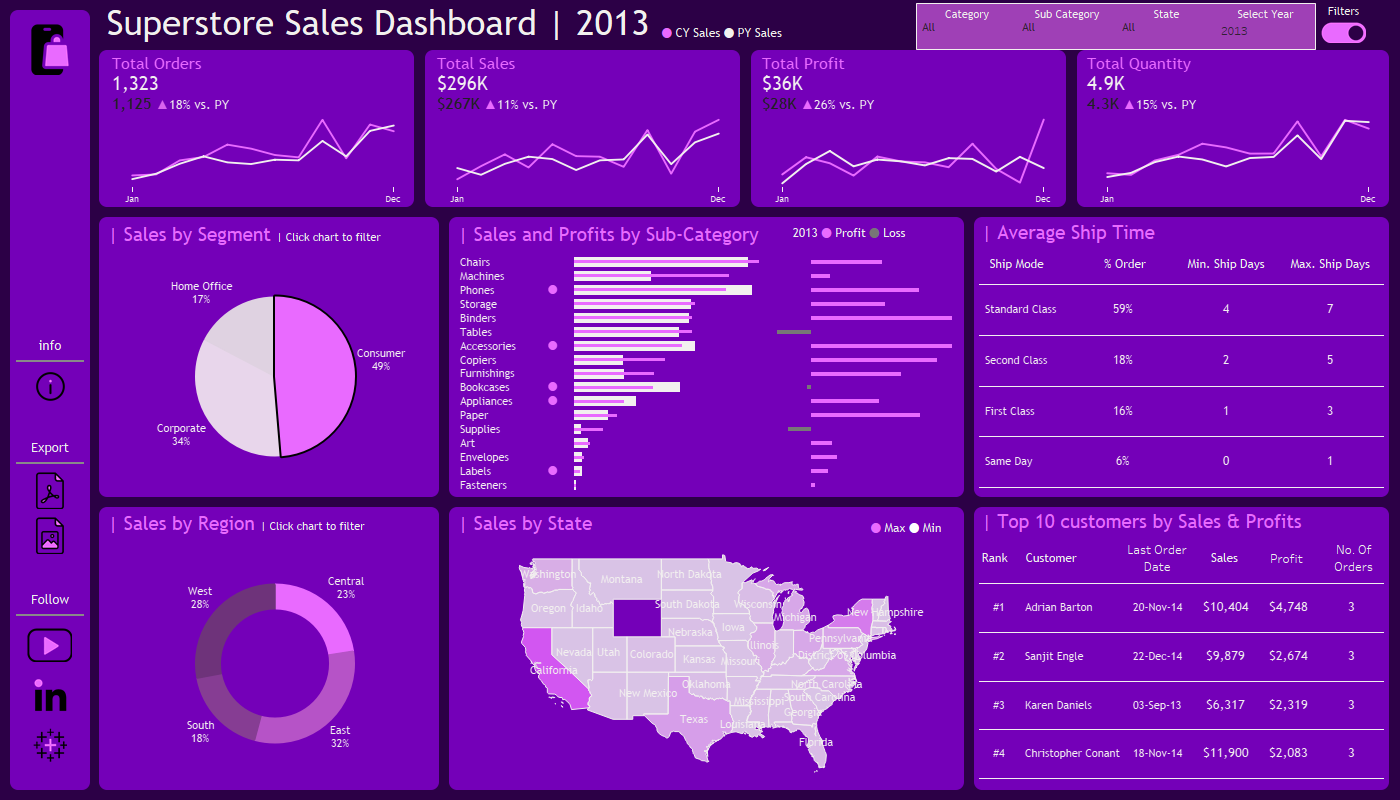

The page's visual inventory and layout, read from the dashboard file:
{"tool":"tableau","page":{"name":"Sales Dashboard","canvas":[1400,800],"ordinal":0},"visuals":[{"type":"image","param":"D:/SHIVAM/Learn With Shivam/Tableau Dashboard Tutorial- Beginner to Intermediate","box":[0,0,1400,800]},{"type":"blank","box":[90,0,1310,267]},{"type":"text","box":[100,0,1300,46]},{"type":"text","box":[1316,1,55,21]},{"type":"filter","title":"Total Orders KPI","param":"[federated.1rs4rue05h7jap19rui71063v4hk].[none:category:nk]","box":[917,4,100,45]},{"type":"filter","title":"Total Orders KPI","param":"[federated.1rs4rue05h7jap19rui71063v4hk].[none:sub_category:nk]","box":[1017,4,100,45]},{"type":"filter","title":"Total Orders KPI","param":"[federated.1rs4rue05h7jap19rui71063v4hk].[none:state:nk]","box":[1117,4,99,45]},{"type":"parameter","param":"[Parameters].[Parameter 1]","box":[1216,4,99,45]},{"type":"blank","box":[10,10,80,10]},{"type":"image","param":"D:/SHIVAM/Learn With Shivam/Tableau Dashboard Tutorial- Beginner to Intermediate","box":[10,20,80,59]},{"type":"dashboard-object","box":[1321,21,45,23]},{"type":"text","box":[659,22,126,24]},{"type":"worksheet","title":"Total Orders KPI","mark":"Automatic","box":[108,54,309,61]},{"type":"worksheet","title":"Total Sales KPI","mark":"Automatic","box":[433,54,309,61]},{"type":"worksheet","title":"Total Profit KPI","mark":"Automatic","box":[758,54,309,61]},{"type":"worksheet","title":"Total Quantity KPI","mark":"Automatic","box":[1083,54,309,61]},{"type":"blank","box":[10,79,80,257]},{"type":"worksheet","title":"MOM Orders","mark":"Line","rows":["Calculation_852869205284057090","CY Orders (copy)_852869205284253699"],"cols":["order_date"],"box":[108,115,309,90]},{"type":"worksheet","title":"MOM Sales","mark":"Line","rows":["Calculation_852869205287362570","CY Sales (copy)_852869205287477259"],"cols":["order_date"],"box":[433,115,309,90]},{"type":"worksheet","title":"MOM Profit","mark":"Line","rows":["Calculation_852869205286715398","CY Profit (copy)_852869205286846471"],"cols":["order_date"],"box":[758,115,309,90]},{"type":"worksheet","title":"MOM Quantity","mark":"Line","rows":["Calculation_852869205292703760","CY Quantity (copy)_852869205292847121"],"cols":["order_date"],"box":[1083,115,309,90]},{"type":"worksheet","title":"Sales/Profits by Segment","mark":"Pie","rows":["Calculation_852869205306703895","Calculation_852869205306728473"],"box":[100,213,350,289]},{"type":"worksheet","title":"Sales/Profits by Sub-Category","mark":"Bar","rows":["sub_category","Calculation_852869205319745563"],"cols":["CY Sales (copy)_852869205287477259","Calculation_852869205287362570","Calculation_852869205286715398"],"box":[450,213,515,289]},{"type":"text","box":[975,217,413,31]},{"type":"text","box":[790,223,122,22]},{"type":"text","box":[979,248,90,32]},{"type":"text","box":[1069,248,112,32]},{"type":"text","box":[1181,248,103.5,32]},{"type":"text","box":[1284.5,248,103.5,32]},{"type":"text","box":[90,267,1310,267]},{"type":"worksheet","title":"Avg Ship Time","mark":"Automatic","rows":["ship_mode"],"box":[975,280,413,218]},{"type":"text","box":[10,336,80,20]},{"type":"blank","box":[10,356,80,10]},{"type":"dashboard-object","box":[10,366,80,40]},{"type":"blank","box":[10,406,80,32]},{"type":"text","box":[10,438,80,20]},{"type":"blank","box":[10,458,80,10]},{"type":"dashboard-object","box":[10,468,80,45]},{"type":"worksheet","title":"Sales/Profits by Region","mark":"Pie","rows":["Calculation_852869205306703895","Calculation_852869205306728473"],"box":[100,502,350,285]},{"type":"worksheet","title":"Sales/Profits by State","mark":"Multipolygon","box":[450,502,515,285]},{"type":"text","box":[975,506,413,31]},{"type":"dashboard-object","box":[10,513,80,45]},{"type":"text","box":[868,518,77,22]},{"type":"blank","box":[90,534,1310,266]},{"type":"text","box":[975,537,44,42]},{"type":"text","box":[1019,537,100,42]},{"type":"text","box":[1119,537,76,42]},{"type":"text","box":[1195,537,59,42]},{"type":"text","box":[1254,537,65,42]},{"type":"text","box":[1318.9,537,69,42]},{"type":"blank","box":[10,558,80,32]},{"type":"worksheet","title":"Top 10 Customers","mark":"Automatic","rows":["Calculation_378302394701783041","customer_name","order_date"],"box":[975,579,413,204]},{"type":"text","box":[10,590,80,20]},{"type":"blank","box":[10,610,80,10]},{"type":"image","param":"D:/SHIVAM/Learn With Shivam/Tableau Dashboard Tutorial- Beginner to Intermediate","box":[10,620,80,50]},{"type":"image","param":"D:/SHIVAM/Learn With Shivam/Tableau Dashboard Tutorial- Beginner to Intermediate","box":[10,670,80,50]},{"type":"image","param":"D:/SHIVAM/Learn With Shivam/Tableau Dashboard Tutorial- Beginner to Intermediate","box":[10,720,80,50]},{"type":"blank","box":[10,770,80,20]}]}

Visuals, with their boxes in screenshot pixels (x1, y1, x2, y2), scaled from the page's 1400x800 canvas onto the 1400x800 screenshot:
image: {"left": 0, "top": 0, "right": 1399, "bottom": 799}
blank: {"left": 90, "top": 0, "right": 1399, "bottom": 267}
text: {"left": 100, "top": 0, "right": 1399, "bottom": 46}
text: {"left": 1316, "top": 1, "right": 1371, "bottom": 22}
"Total Orders KPI" filter: {"left": 917, "top": 4, "right": 1017, "bottom": 49}
"Total Orders KPI" filter: {"left": 1017, "top": 4, "right": 1117, "bottom": 49}
"Total Orders KPI" filter: {"left": 1117, "top": 4, "right": 1216, "bottom": 49}
parameter: {"left": 1216, "top": 4, "right": 1315, "bottom": 49}
blank: {"left": 10, "top": 10, "right": 90, "bottom": 20}
image: {"left": 10, "top": 20, "right": 90, "bottom": 79}
dashboard-object: {"left": 1321, "top": 21, "right": 1366, "bottom": 44}
text: {"left": 659, "top": 22, "right": 785, "bottom": 46}
"Total Orders KPI" worksheet: {"left": 108, "top": 54, "right": 417, "bottom": 115}
"Total Sales KPI" worksheet: {"left": 433, "top": 54, "right": 742, "bottom": 115}
"Total Profit KPI" worksheet: {"left": 758, "top": 54, "right": 1067, "bottom": 115}
"Total Quantity KPI" worksheet: {"left": 1083, "top": 54, "right": 1392, "bottom": 115}
blank: {"left": 10, "top": 79, "right": 90, "bottom": 336}
"MOM Orders" worksheet (Line marks): {"left": 108, "top": 115, "right": 417, "bottom": 205}
"MOM Sales" worksheet (Line marks): {"left": 433, "top": 115, "right": 742, "bottom": 205}
"MOM Profit" worksheet (Line marks): {"left": 758, "top": 115, "right": 1067, "bottom": 205}
"MOM Quantity" worksheet (Line marks): {"left": 1083, "top": 115, "right": 1392, "bottom": 205}
"Sales/Profits by Segment" worksheet (Pie marks): {"left": 100, "top": 213, "right": 450, "bottom": 502}
"Sales/Profits by Sub-Category" worksheet (Bar marks): {"left": 450, "top": 213, "right": 965, "bottom": 502}
text: {"left": 975, "top": 217, "right": 1388, "bottom": 248}
text: {"left": 790, "top": 223, "right": 912, "bottom": 245}
text: {"left": 979, "top": 248, "right": 1069, "bottom": 280}
text: {"left": 1069, "top": 248, "right": 1181, "bottom": 280}
text: {"left": 1181, "top": 248, "right": 1284, "bottom": 280}
text: {"left": 1284, "top": 248, "right": 1388, "bottom": 280}
text: {"left": 90, "top": 267, "right": 1399, "bottom": 534}
"Avg Ship Time" worksheet: {"left": 975, "top": 280, "right": 1388, "bottom": 498}
text: {"left": 10, "top": 336, "right": 90, "bottom": 356}
blank: {"left": 10, "top": 356, "right": 90, "bottom": 366}
dashboard-object: {"left": 10, "top": 366, "right": 90, "bottom": 406}
blank: {"left": 10, "top": 406, "right": 90, "bottom": 438}
text: {"left": 10, "top": 438, "right": 90, "bottom": 458}
blank: {"left": 10, "top": 458, "right": 90, "bottom": 468}
dashboard-object: {"left": 10, "top": 468, "right": 90, "bottom": 513}
"Sales/Profits by Region" worksheet (Pie marks): {"left": 100, "top": 502, "right": 450, "bottom": 787}
"Sales/Profits by State" worksheet (Multipolygon marks): {"left": 450, "top": 502, "right": 965, "bottom": 787}
text: {"left": 975, "top": 506, "right": 1388, "bottom": 537}
dashboard-object: {"left": 10, "top": 513, "right": 90, "bottom": 558}
text: {"left": 868, "top": 518, "right": 945, "bottom": 540}
blank: {"left": 90, "top": 534, "right": 1399, "bottom": 799}
text: {"left": 975, "top": 537, "right": 1019, "bottom": 579}
text: {"left": 1019, "top": 537, "right": 1119, "bottom": 579}
text: {"left": 1119, "top": 537, "right": 1195, "bottom": 579}
text: {"left": 1195, "top": 537, "right": 1254, "bottom": 579}
text: {"left": 1254, "top": 537, "right": 1319, "bottom": 579}
text: {"left": 1319, "top": 537, "right": 1388, "bottom": 579}
blank: {"left": 10, "top": 558, "right": 90, "bottom": 590}
"Top 10 Customers" worksheet: {"left": 975, "top": 579, "right": 1388, "bottom": 783}
text: {"left": 10, "top": 590, "right": 90, "bottom": 610}
blank: {"left": 10, "top": 610, "right": 90, "bottom": 620}
image: {"left": 10, "top": 620, "right": 90, "bottom": 670}
image: {"left": 10, "top": 670, "right": 90, "bottom": 720}
image: {"left": 10, "top": 720, "right": 90, "bottom": 770}
blank: {"left": 10, "top": 770, "right": 90, "bottom": 790}
